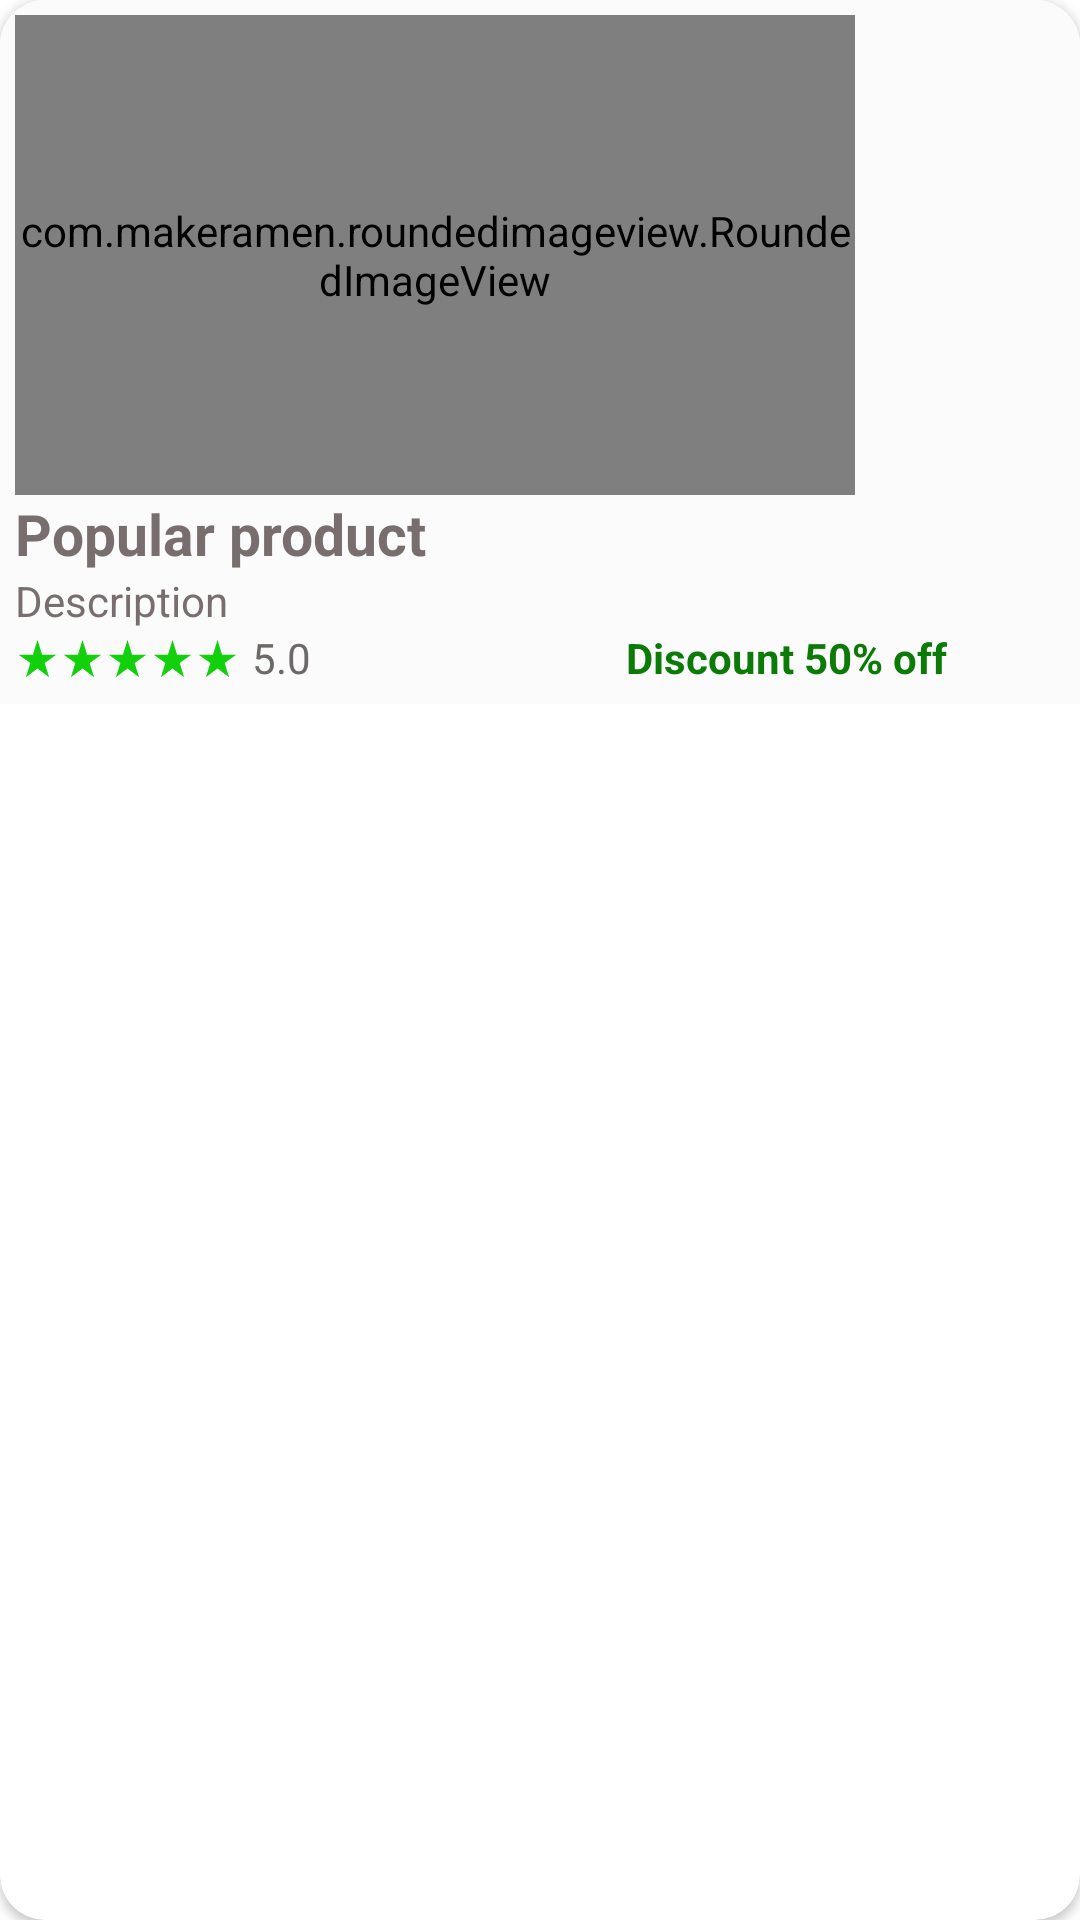

Where icons sit on this 1080px×1920px app screen, as detection(x1, y1, x2, y2):
star rate: detection(19, 640, 56, 677), detection(64, 640, 101, 677), detection(109, 640, 146, 677), detection(154, 640, 191, 677), detection(199, 640, 236, 677)
